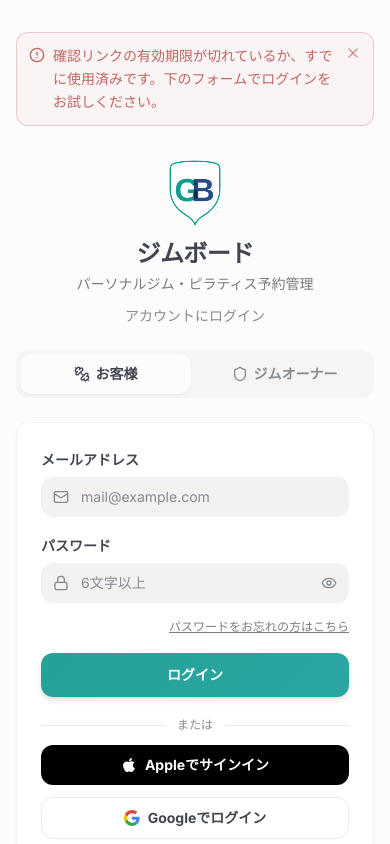
it: 確認リンクの処理に失敗したとき（AuthCallback からの ?error=） › 閉じるボタンで消せる
Expected: the message "確認リンクの有効期限が切れているか、すでに使用済みです。下のフォームでログインをお試しください。" is shown, top-left (16, 32), bottom-right (374, 126)
Click the button named "閉じる" at (353, 53), box top-left (345, 45), bottom-right (361, 61)
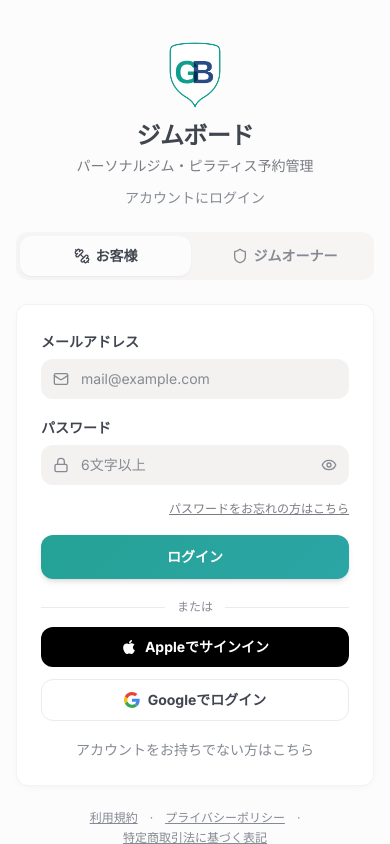
Expected: the message "確認リンクの有効期限が切れているか、すでに使用済みです。下のフォームでログインをお試しください。" is gone
